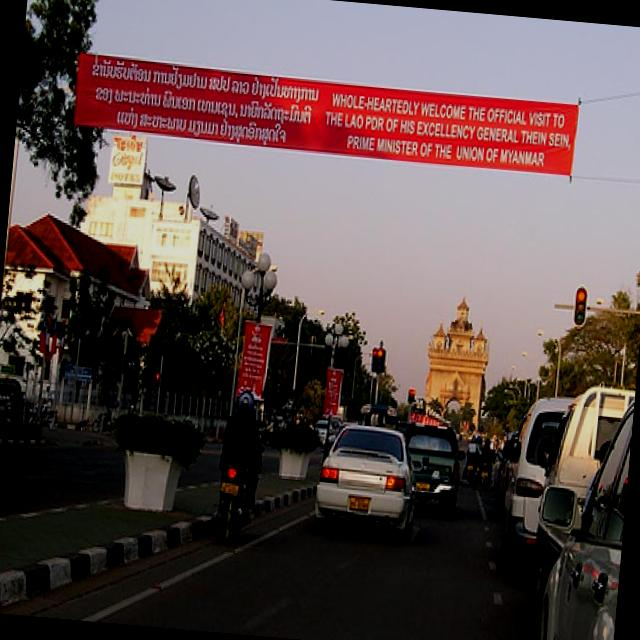Vehicle: (520, 383, 635, 640), (524, 377, 636, 630), (524, 386, 634, 640), (493, 392, 577, 582), (312, 424, 422, 542), (394, 416, 466, 519), (213, 459, 247, 544), (488, 439, 513, 515), (464, 457, 482, 490), (313, 418, 334, 444), (454, 443, 468, 480), (478, 460, 492, 492)
